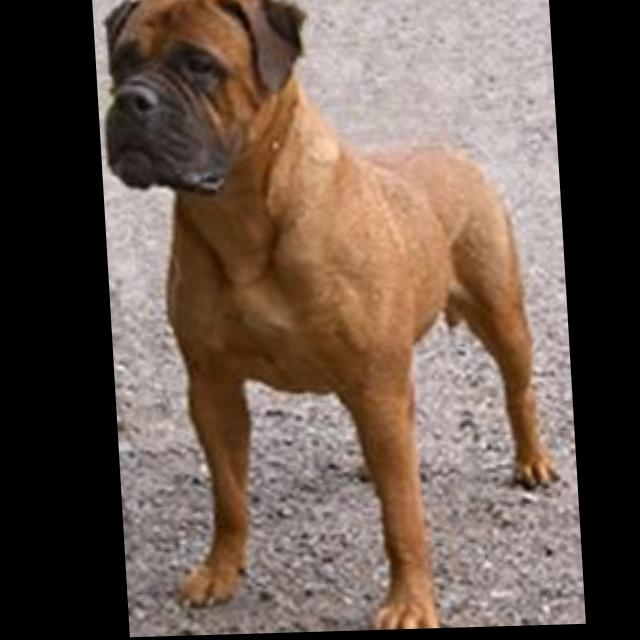bullmastiff: (96, 1, 562, 639)
